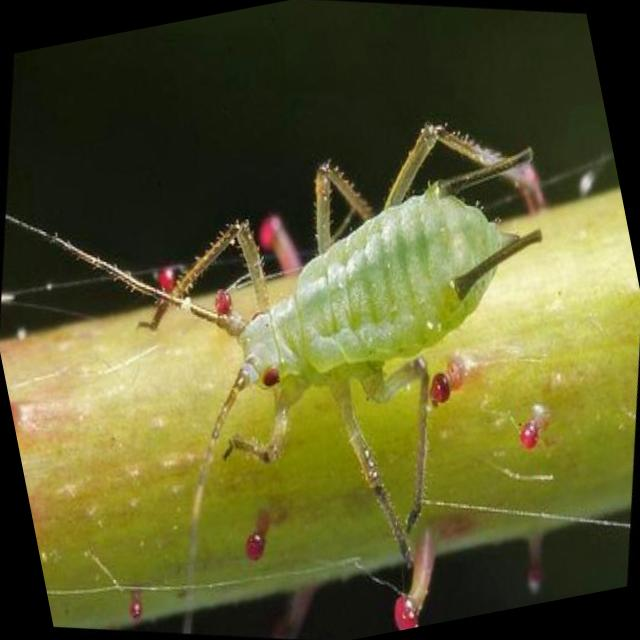aphid: (14, 32, 625, 640)
